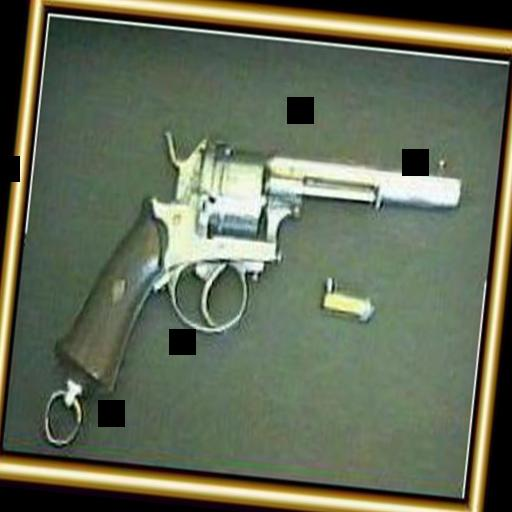Handgun: (46, 114, 470, 434)
